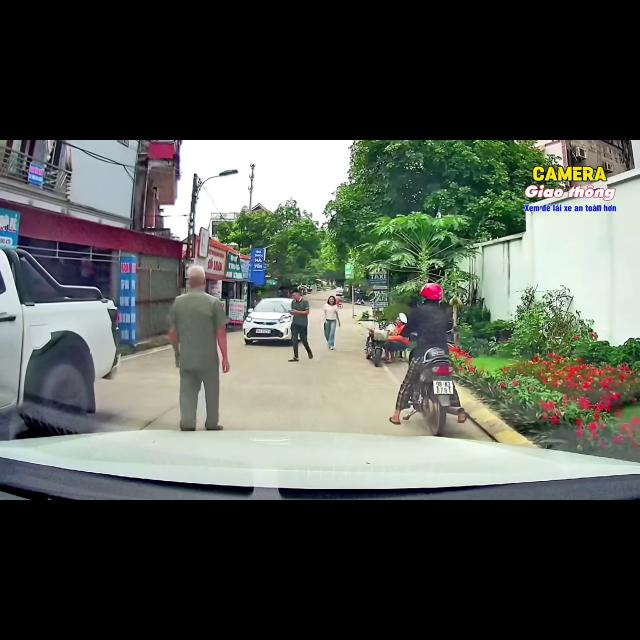car: (0, 249, 119, 439), (243, 298, 292, 344), (336, 287, 343, 296)
motorcycle: (403, 348, 466, 435), (365, 322, 389, 366), (355, 299, 364, 304), (337, 300, 342, 308)
